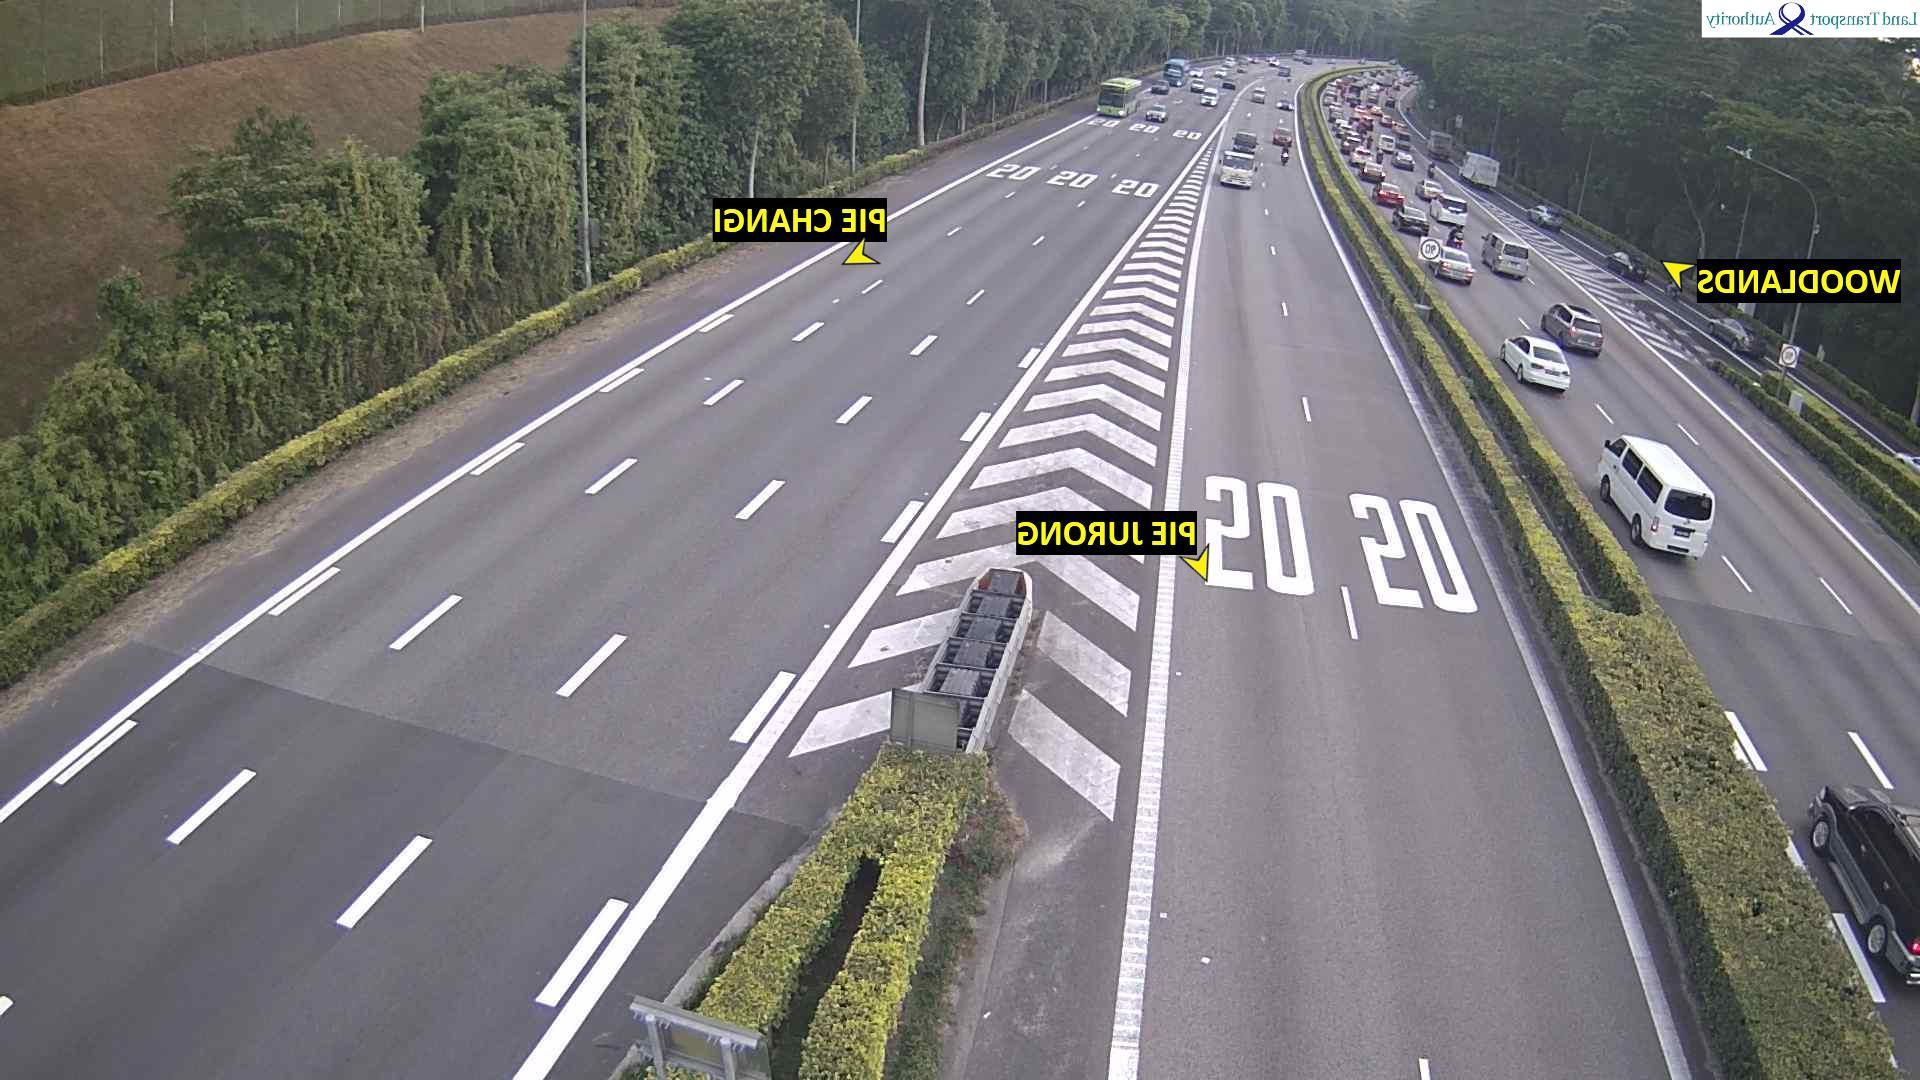bus: (1097, 75, 1143, 117), (1161, 60, 1192, 87)
cars: (1807, 780, 1920, 985), (1598, 433, 1717, 563), (1500, 334, 1573, 392), (1542, 301, 1605, 356), (1482, 232, 1530, 279), (1435, 246, 1476, 284), (1711, 315, 1751, 349), (1393, 201, 1432, 234), (1609, 249, 1649, 281), (1433, 193, 1471, 226), (1528, 202, 1564, 231), (1373, 180, 1405, 207), (1415, 176, 1445, 201), (1361, 160, 1387, 182), (1233, 129, 1260, 150), (1393, 149, 1416, 170), (1273, 126, 1294, 146), (1190, 67, 1208, 90), (1201, 86, 1221, 106), (1350, 149, 1371, 168), (1147, 104, 1169, 122), (1174, 127, 1202, 141), (1341, 138, 1363, 154), (1251, 84, 1268, 102), (1378, 133, 1394, 152), (1295, 49, 1313, 64), (1151, 80, 1170, 94), (1375, 72, 1394, 85), (1337, 124, 1352, 140), (1277, 98, 1295, 110), (1342, 131, 1360, 143), (1278, 63, 1292, 78), (1322, 92, 1337, 106), (1221, 77, 1237, 90), (1360, 116, 1374, 130), (1380, 115, 1394, 129), (1301, 56, 1316, 68), (1326, 104, 1343, 114), (1372, 105, 1386, 117), (1329, 112, 1343, 123), (1333, 121, 1350, 130), (1212, 67, 1227, 77), (1221, 57, 1236, 67), (1345, 75, 1358, 86), (1354, 105, 1367, 116), (1367, 94, 1380, 105), (1326, 82, 1338, 93), (1235, 65, 1248, 75), (1367, 84, 1380, 94), (1267, 58, 1280, 67), (1325, 56, 1339, 64), (1335, 79, 1346, 89), (1368, 68, 1378, 79), (1385, 99, 1397, 108), (1248, 56, 1261, 64), (1356, 72, 1366, 81)
motorcycle: (1443, 225, 1467, 251), (1425, 162, 1440, 181), (1279, 146, 1291, 166), (1374, 150, 1386, 163), (1365, 136, 1374, 150), (1283, 73, 1294, 84), (1356, 57, 1368, 66), (1384, 87, 1391, 96)
trucks: (1220, 148, 1259, 188), (1460, 150, 1501, 188), (1425, 130, 1453, 159), (1392, 129, 1411, 151), (1347, 84, 1360, 103)
